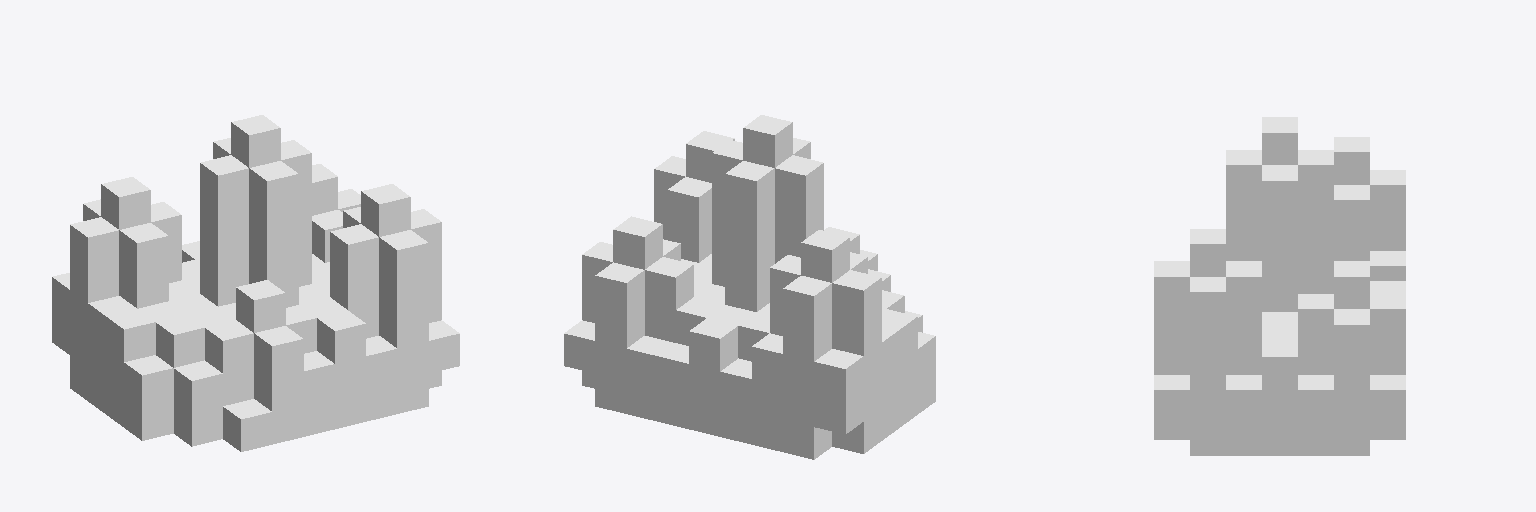
The model's file is OpalDeposit_S.obj.
3 renders of one model, left to right at view 1: azimuth 30°, elevation 25°; view 2: azimuth 150°, elevation 25°; view 3: azimuth 270°, elevation 25°, orthographic.
Parts seen in each view (by area): view 1: OpalDeposit_S; view 2: OpalDeposit_S; view 3: OpalDeposit_S.
Part boxes in pixels (bbox=[...]): OpalDeposit_S: bbox=[52, 115, 459, 451]; OpalDeposit_S: bbox=[564, 115, 935, 459]; OpalDeposit_S: bbox=[1154, 117, 1405, 455].
Bounding box in the file's own units: 0.9 × 0.8 × 0.7.